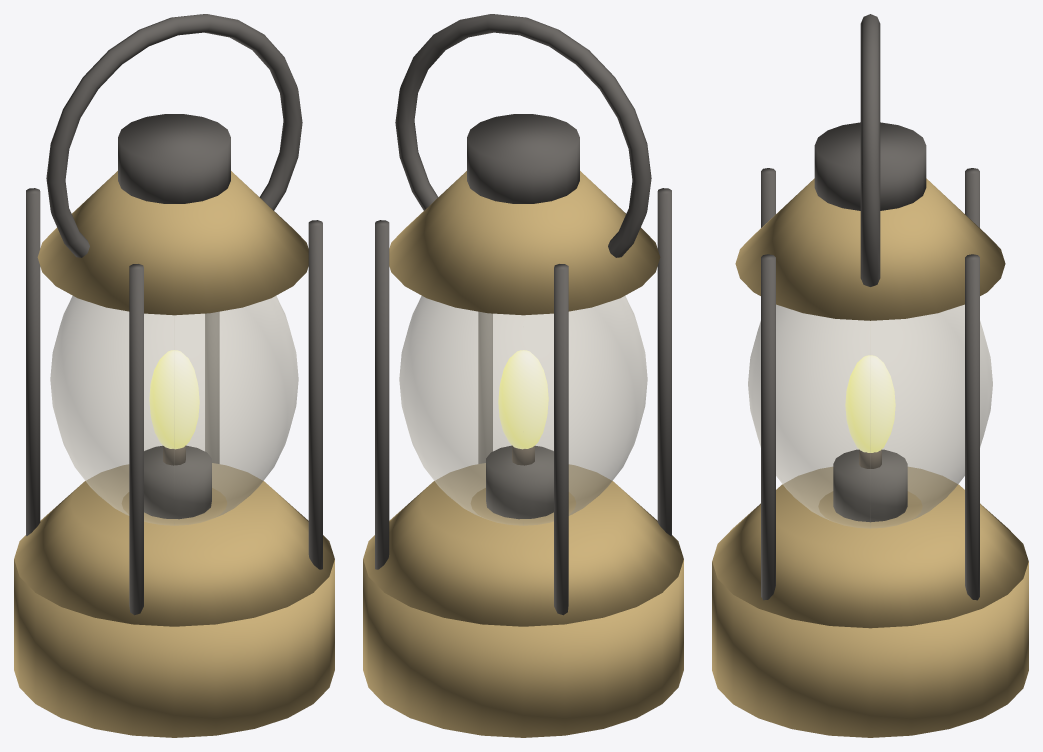
File: kerala_night_lamp.glb
3 renders of one model, left to right at view 1: azimuth 30°, elevation 25°; view 2: azimuth 150°, elevation 25°; view 3: azimuth 270°, elevation 25°, orthographic.
Parts seen in each view (by area): view 1: Lamp_Glass, Lamp_Reservoir, Lamp_Collar, Lamp_Hood, Lamp_Handle, Lamp_Chimney, Lamp_GuardRib_2, Lamp_GuardRib_3, Lamp_GuardRib_1, Lamp_Burner, Lamp_Flame, Lamp_GuardRib_0; view 2: Lamp_Glass, Lamp_Reservoir, Lamp_Collar, Lamp_Hood, Lamp_Handle, Lamp_Chimney, Lamp_GuardRib_1, Lamp_GuardRib_0, Lamp_GuardRib_2, Lamp_Burner, Lamp_Flame, Lamp_GuardRib_3; view 3: Lamp_Glass, Lamp_Reservoir, Lamp_Collar, Lamp_Hood, Lamp_Chimney, Lamp_Handle, Lamp_GuardRib_0, Lamp_GuardRib_3, Lamp_Burner, Lamp_Flame, Lamp_GuardRib_1, Lamp_GuardRib_2.
Part boxes in pixels (x1,y1,x2,y2): Lamp_Glass: (50, 296, 298, 525); Lamp_Reservoir: (14, 559, 334, 737); Lamp_Collar: (14, 463, 334, 626); Lamp_Hood: (37, 171, 308, 315); Lamp_Handle: (46, 14, 302, 257); Lamp_Chimney: (118, 114, 230, 203); Lamp_GuardRib_2: (129, 264, 143, 615); Lamp_GuardRib_3: (308, 220, 322, 569); Lamp_GuardRib_1: (26, 188, 40, 536); Lamp_Burner: (144, 445, 211, 518); Lamp_Flame: (149, 350, 199, 449); Lamp_GuardRib_0: (205, 312, 219, 463); Lamp_Glass: (399, 296, 647, 525); Lamp_Reservoir: (363, 559, 683, 737); Lamp_Collar: (363, 463, 683, 626); Lamp_Hood: (389, 171, 660, 315); Lamp_Handle: (395, 14, 651, 257); Lamp_Chimney: (467, 114, 579, 203); Lamp_GuardRib_1: (554, 264, 568, 615); Lamp_GuardRib_0: (375, 220, 389, 569); Lamp_GuardRib_2: (657, 188, 671, 536); Lamp_Burner: (486, 445, 553, 518); Lamp_Flame: (498, 350, 548, 449); Lamp_GuardRib_3: (478, 312, 492, 463); Lamp_Glass: (748, 304, 992, 528); Lamp_Reservoir: (712, 561, 1028, 737); Lamp_Collar: (712, 467, 1028, 628); Lamp_Hood: (735, 178, 1005, 320); Lamp_Chimney: (814, 122, 926, 210); Lamp_Handle: (860, 14, 880, 286); Lamp_GuardRib_0: (965, 254, 979, 600); Lamp_GuardRib_3: (761, 254, 775, 600); Lamp_Burner: (833, 449, 907, 522); Lamp_Flame: (845, 355, 895, 452); Lamp_GuardRib_1: (965, 168, 979, 227); Lamp_GuardRib_2: (761, 168, 775, 227).
Bounding box in the file's own units: 0.136 × 0.3052 × 0.136.
